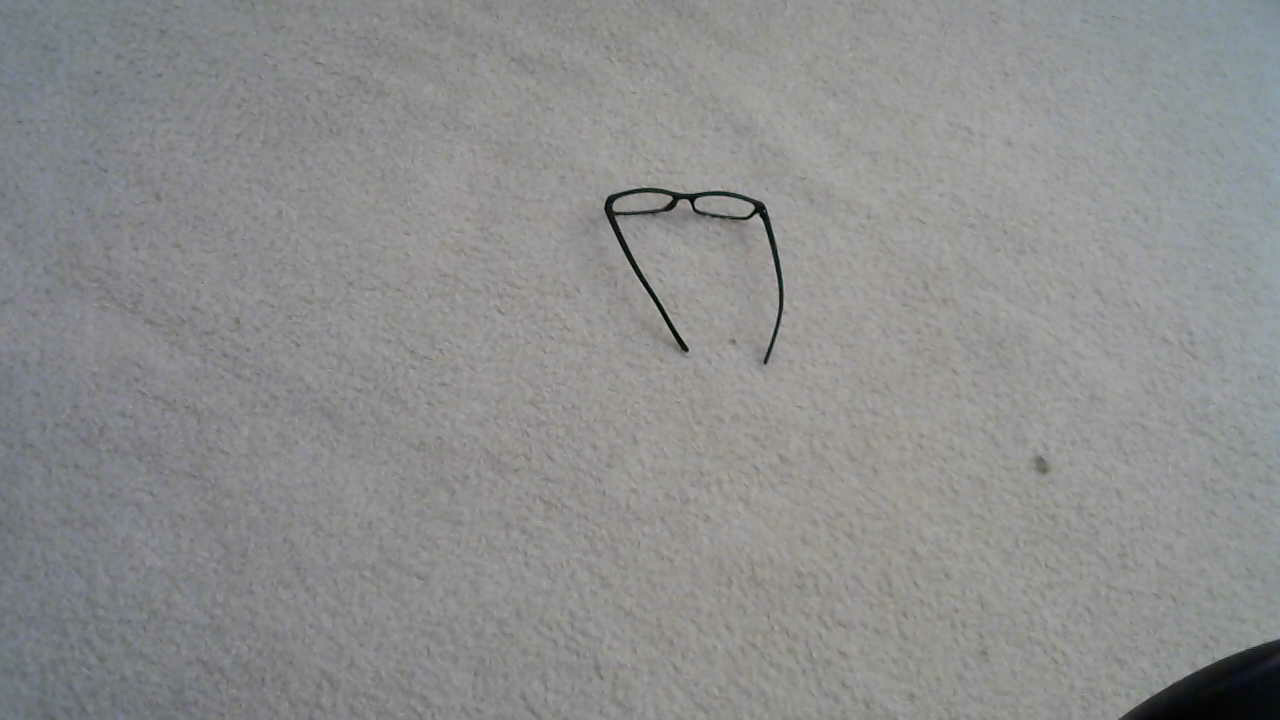Glasses: (576, 190, 799, 379)
